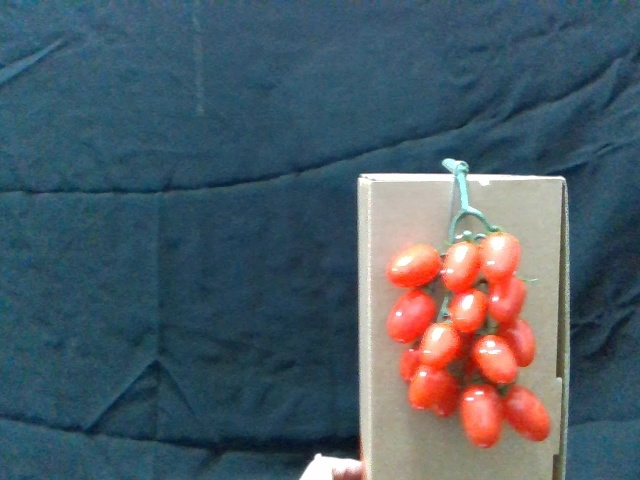tomato: (457, 384, 505, 451), (504, 387, 553, 445), (387, 290, 438, 344), (386, 245, 442, 288), (475, 333, 519, 385), (420, 320, 463, 371), (481, 232, 523, 282), (500, 316, 539, 369), (442, 241, 482, 292), (490, 275, 527, 326), (407, 365, 447, 411), (453, 289, 490, 333)
